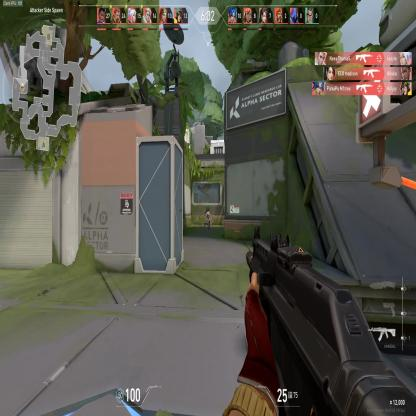enemy: (203, 207, 212, 232)
